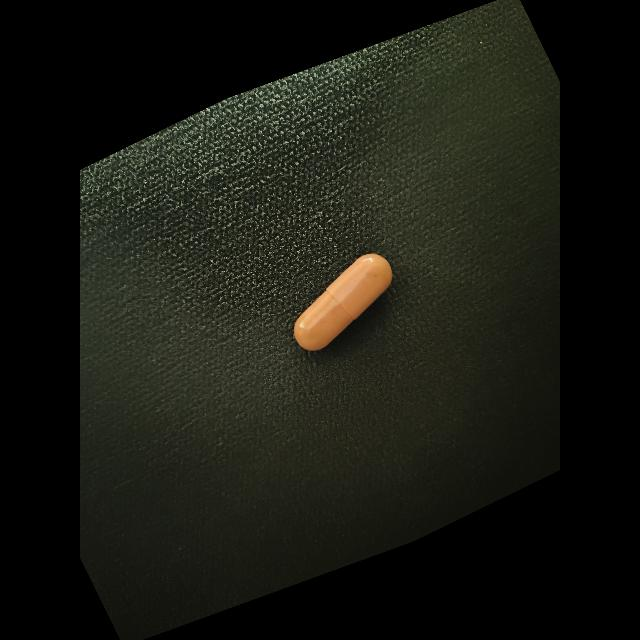Intact Capsule: (294, 253, 392, 350)
